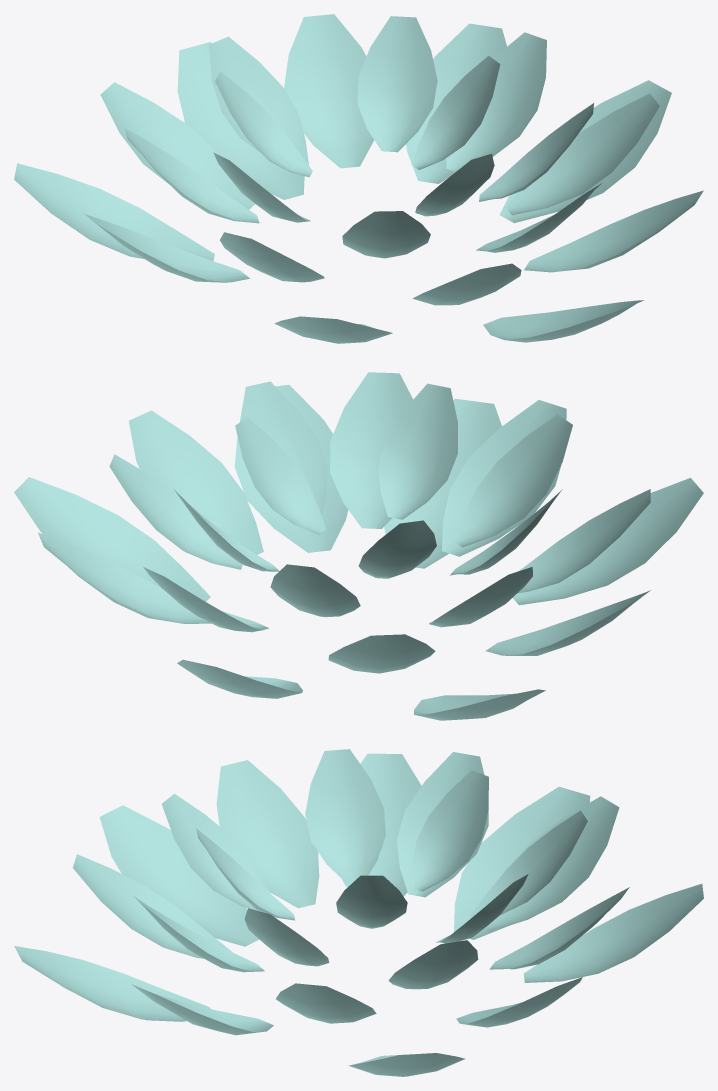
File: succulent_ghost_echeveria.glb
The picture shows the model from 3 angles, top to bottom: view 1: azimuth 30°, elevation 25°; view 2: azimuth 150°, elevation 25°; view 3: azimuth 270°, elevation 25°; orthographic projection. The views are drawn at different scales.
Parts seen in each view (by area): view 1: Flora_Ghost_Echeveria; view 2: Flora_Ghost_Echeveria; view 3: Flora_Ghost_Echeveria.
Boxes of the visible parts, x1,y1,x2,y2 form: Flora_Ghost_Echeveria: [14, 14, 703, 343]; Flora_Ghost_Echeveria: [14, 372, 703, 720]; Flora_Ghost_Echeveria: [14, 749, 703, 1076].
Size of the model in its own units: 0.3189 by 0.0936 by 0.332.
